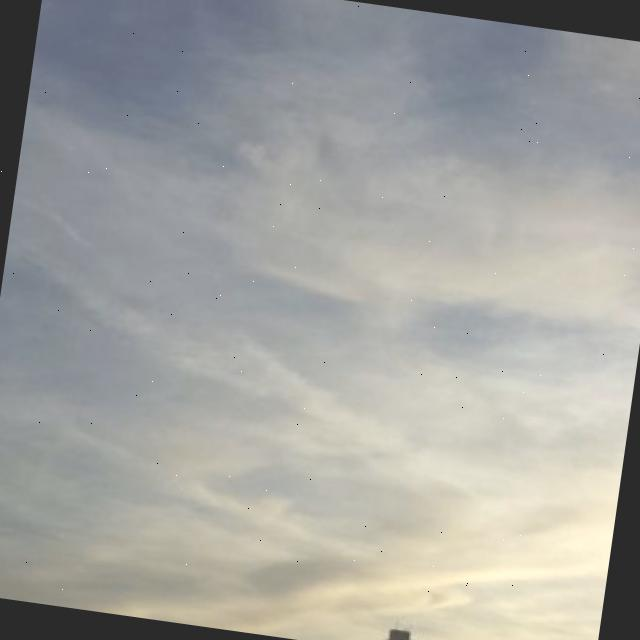Ct: (1, 1, 640, 561)
